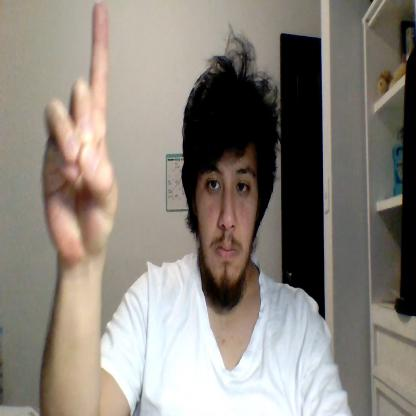D: (42, 1, 118, 258)
